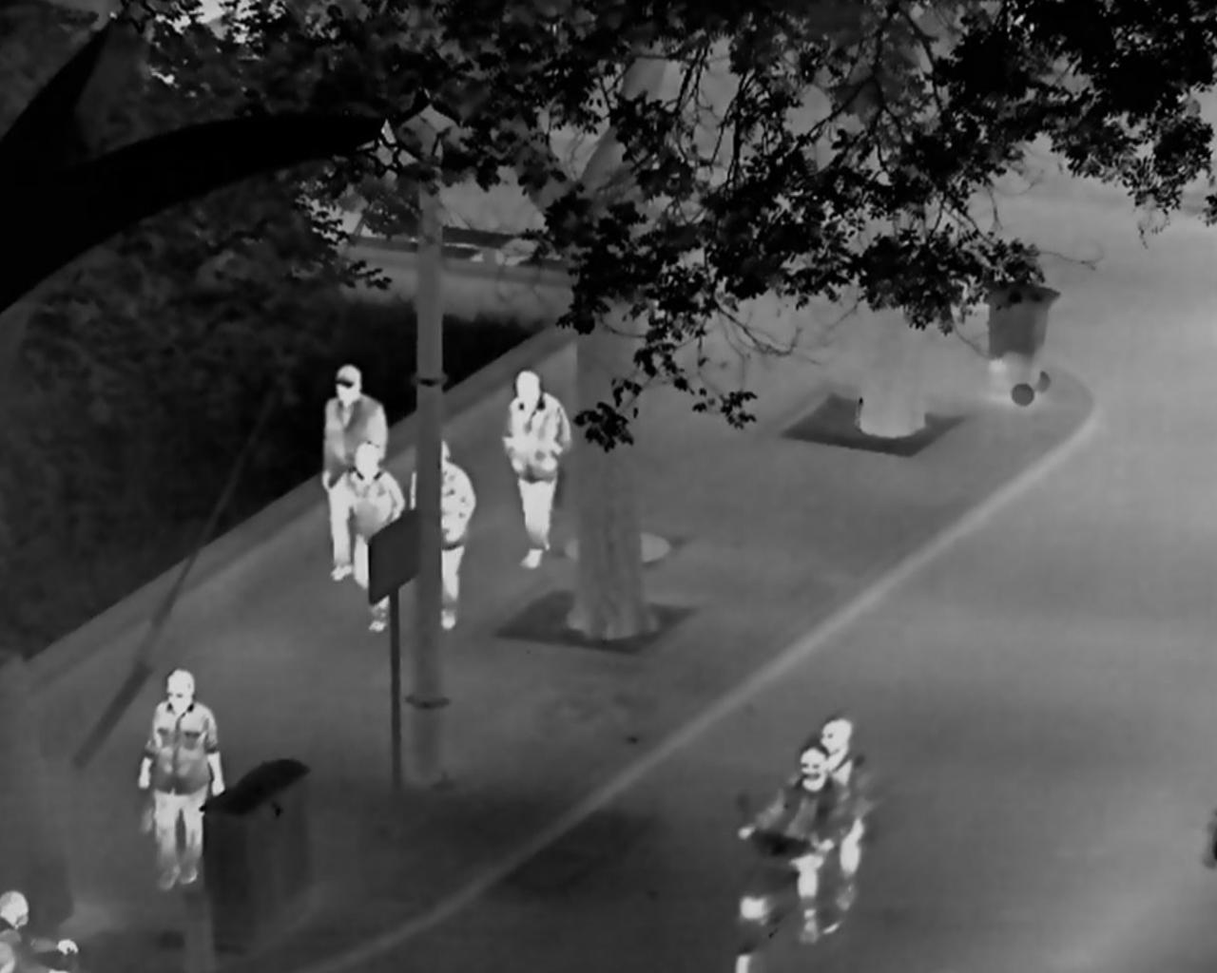person: (737, 737, 845, 944), (136, 667, 227, 890), (319, 363, 392, 583), (498, 368, 572, 571), (341, 439, 408, 634), (409, 440, 476, 630), (820, 716, 875, 911)
